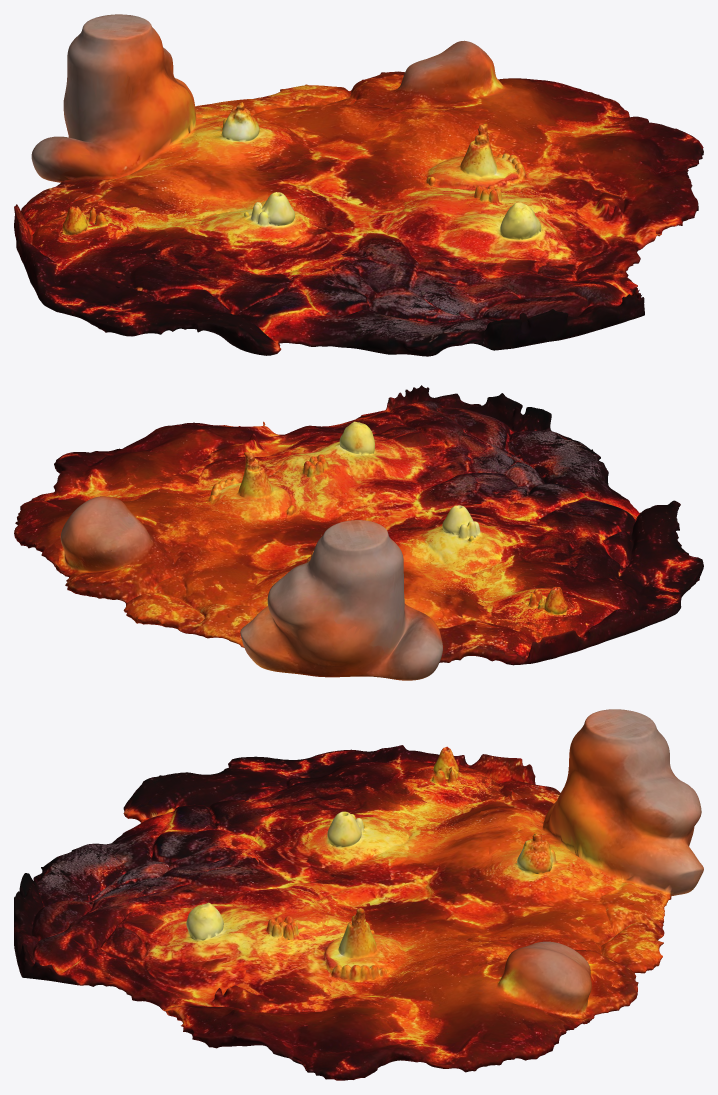
File: lava_lake.glb
3 renders of one model, top to bottom at view 1: azimuth 30°, elevation 25°; view 2: azimuth 150°, elevation 25°; view 3: azimuth 270°, elevation 25°, orthographic. The views are drawn at different scales.
Parts seen in each view (by area): view 1: tripo_node_eb5dc14b-bece-4ce6-929a-e7de496cab19; view 2: tripo_node_eb5dc14b-bece-4ce6-929a-e7de496cab19; view 3: tripo_node_eb5dc14b-bece-4ce6-929a-e7de496cab19.
Part boxes in pixels (x1,y1,x2,y2): tripo_node_eb5dc14b-bece-4ce6-929a-e7de496cab19: [14, 14, 703, 356]; tripo_node_eb5dc14b-bece-4ce6-929a-e7de496cab19: [14, 385, 703, 680]; tripo_node_eb5dc14b-bece-4ce6-929a-e7de496cab19: [14, 709, 703, 1080].
Size of the model in its own units: 0.98 by 0.1951 by 0.8741.
1 material, 1 textured.
